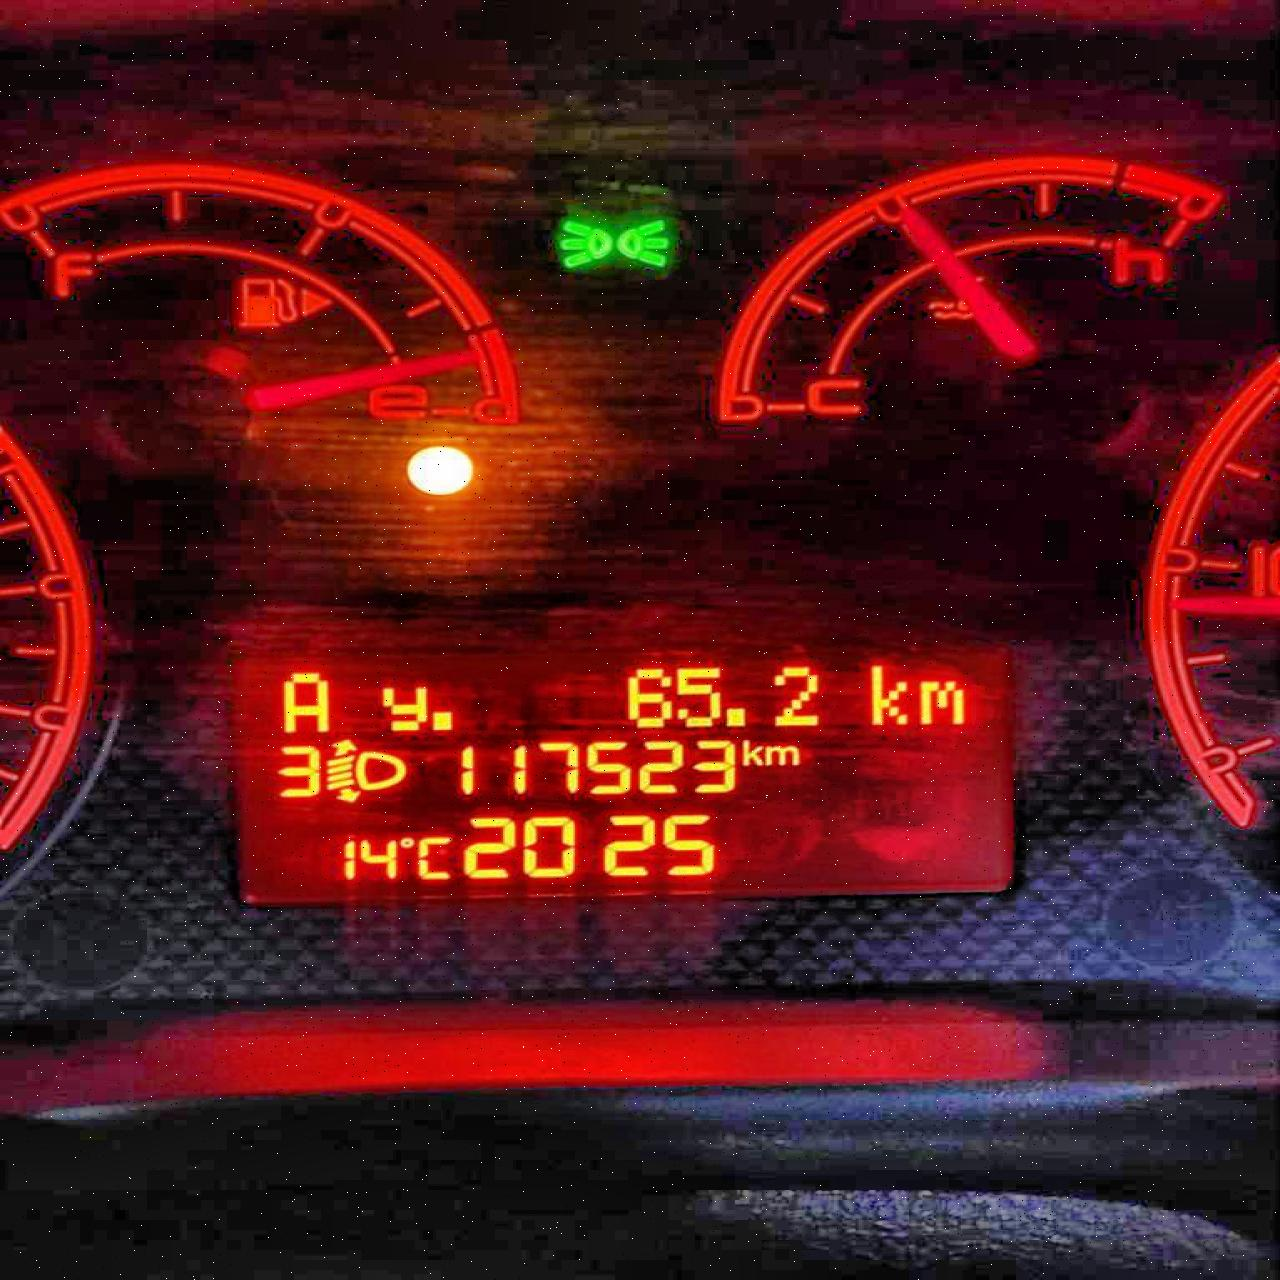-: (428, 707, 455, 734), (723, 704, 747, 730)
0: (519, 812, 573, 881)
1: (451, 740, 485, 799), (505, 741, 531, 798), (339, 836, 358, 884)
2: (767, 661, 824, 729), (599, 810, 654, 880), (462, 810, 511, 881), (636, 737, 687, 797)
3: (690, 736, 737, 796), (275, 743, 322, 797)
4: (358, 837, 397, 878)
5: (659, 810, 716, 879), (675, 662, 722, 729), (584, 737, 632, 797)
6: (624, 663, 674, 730)
7: (531, 738, 579, 795)
X: (279, 666, 329, 735), (863, 659, 911, 726), (373, 680, 428, 733), (915, 676, 966, 728), (416, 833, 452, 881), (762, 742, 801, 767), (738, 736, 762, 765)
odometer: (226, 633, 1021, 907)
